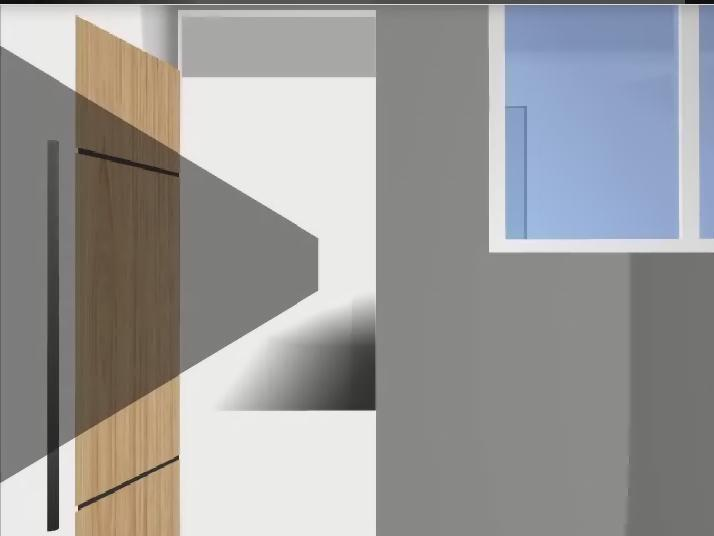door: (76, 15, 180, 536)
